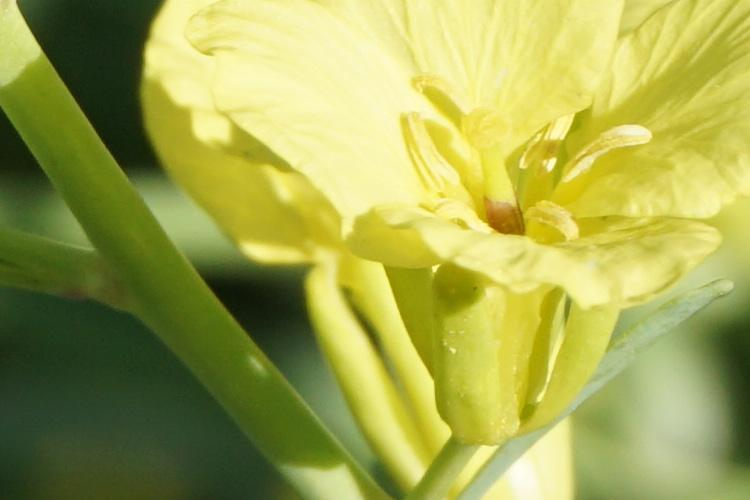yellow: (182, 14, 741, 424)
